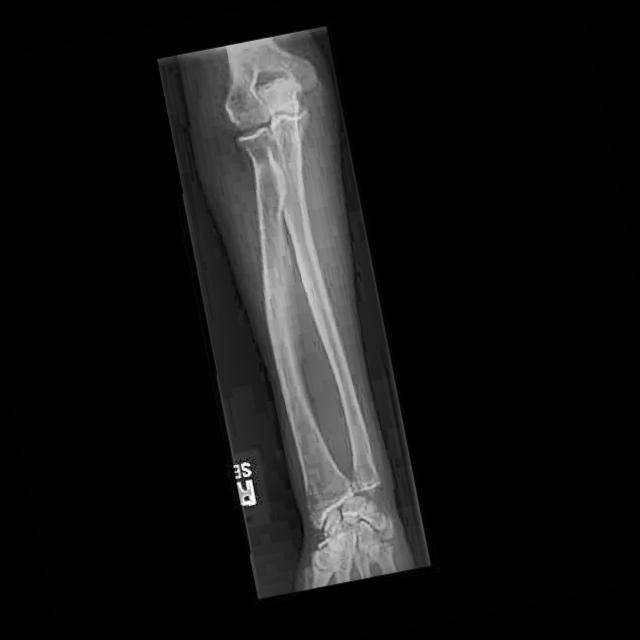forearm fracture: (300, 468, 364, 558)
